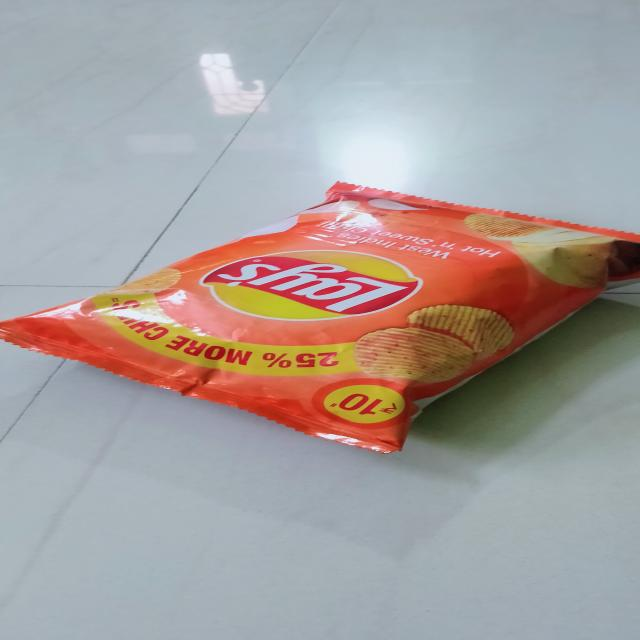lays: (0, 182, 640, 461)
